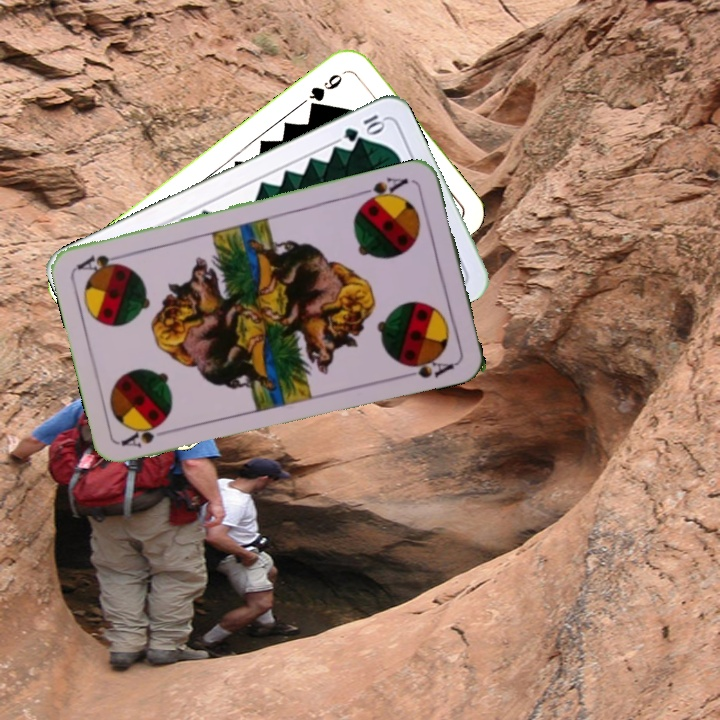G10: (339, 110, 388, 145)
G9: (304, 69, 346, 113)
SA: (355, 173, 411, 207), (118, 420, 176, 450)
